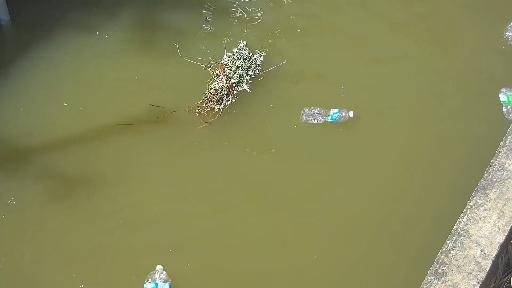plastic: (299, 106, 370, 134), (142, 262, 174, 288), (497, 80, 512, 121), (500, 18, 512, 48)
twig: (155, 25, 277, 127)
